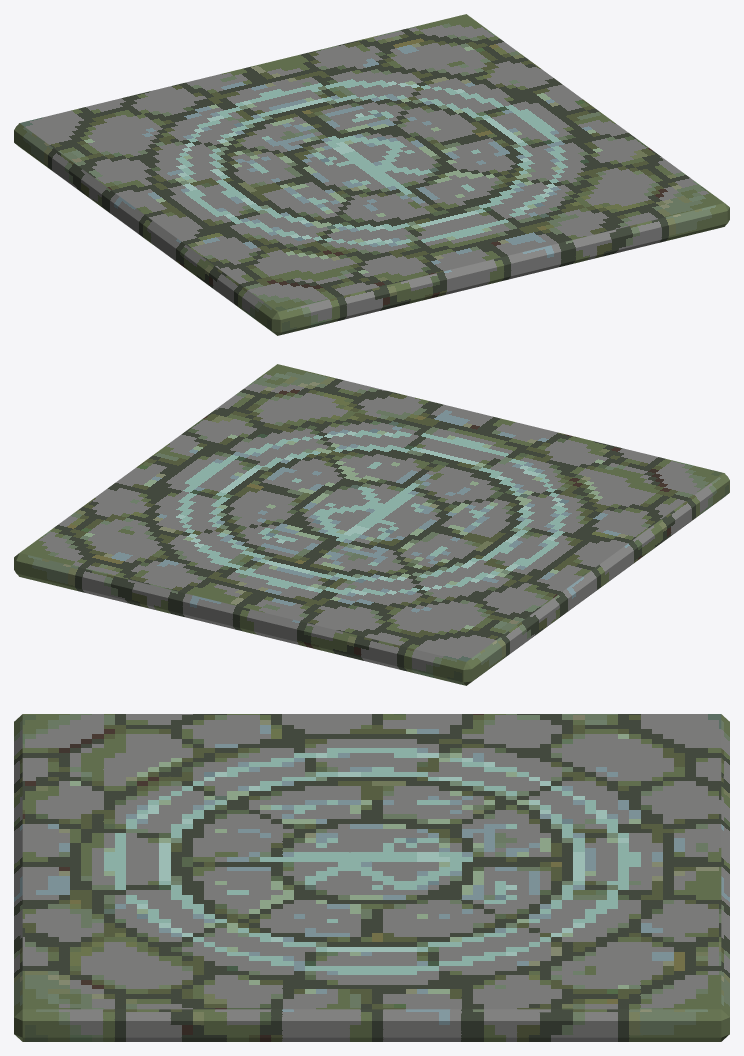
The model's file is topo_zona.glb.
The picture shows the model from 3 angles, top to bottom: view 1: azimuth 30°, elevation 25°; view 2: azimuth 150°, elevation 25°; view 3: azimuth 270°, elevation 25°; orthographic projection. The views are drawn at different scales.
Parts seen in each view (by area): view 1: bosque_topo_zona; view 2: bosque_topo_zona; view 3: bosque_topo_zona.
Part boxes in pixels (x1,y1,x2,y2): bosque_topo_zona: (14,14,729,335); bosque_topo_zona: (14,364,729,685); bosque_topo_zona: (14,714,729,1041).
Size of the model in its own units: 1 by 0.05 by 1.
Materials: 1 (1 with a texture image).
